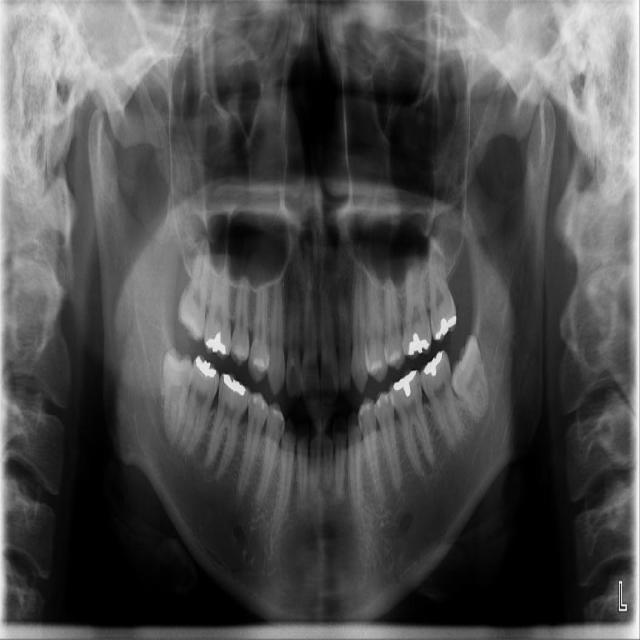Filling: (393, 370, 416, 397), (365, 342, 382, 375), (205, 330, 226, 356), (435, 315, 456, 340), (408, 333, 430, 356), (224, 374, 246, 396), (423, 351, 442, 376), (195, 356, 216, 377), (385, 344, 402, 364), (273, 409, 283, 422), (360, 404, 370, 415), (253, 358, 264, 367), (262, 402, 265, 410), (254, 395, 257, 403)
Periapical lesion: (165, 446, 200, 467)
impacted tooth: (450, 335, 490, 418), (162, 351, 193, 444)
